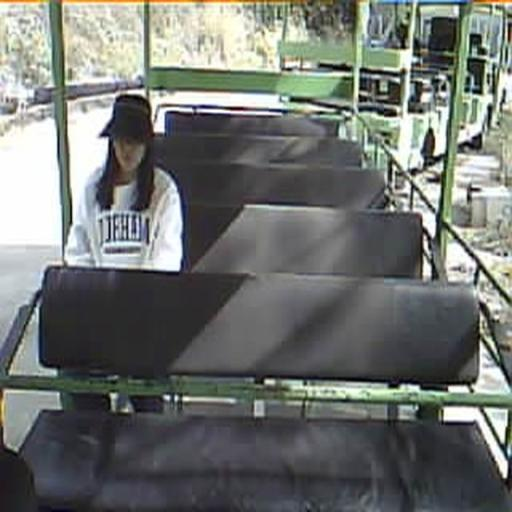persona: (64, 92, 188, 273)
